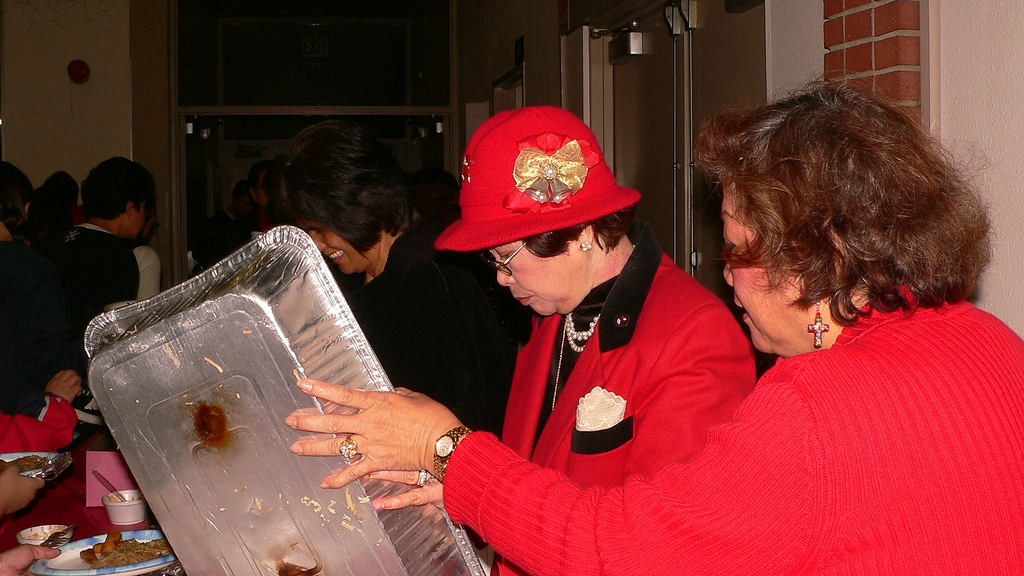Human_hand: (284, 374, 460, 490), (360, 468, 448, 515), (0, 463, 47, 515), (0, 544, 61, 575), (42, 367, 84, 403)
